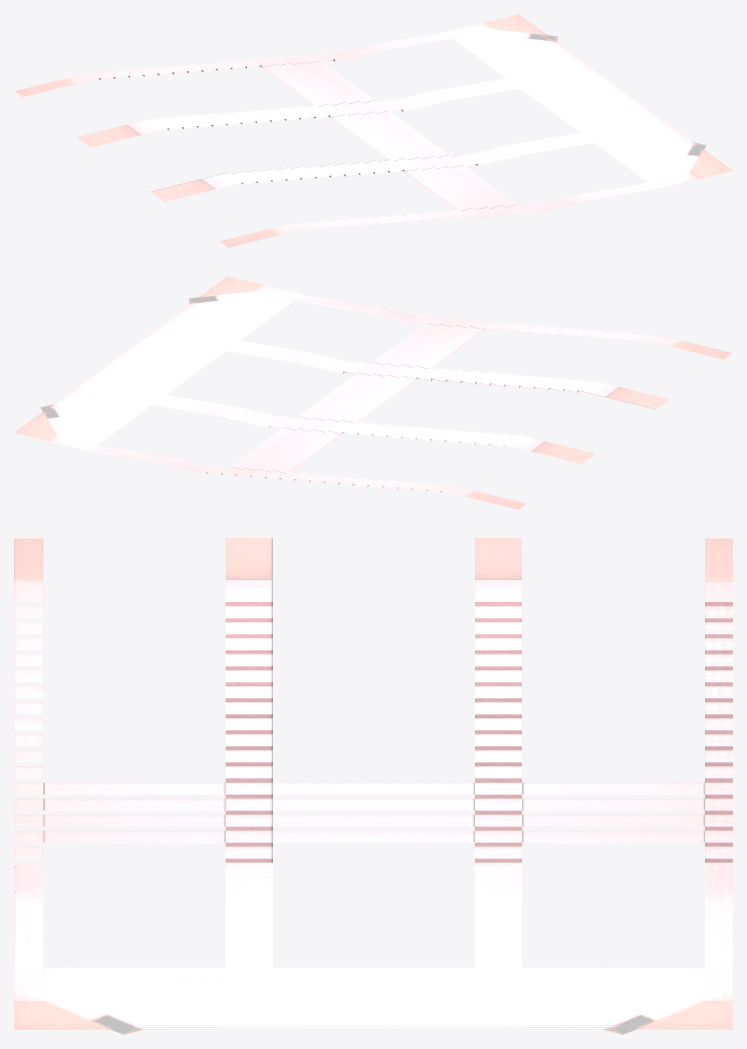
3 renders of one model, top to bottom at view 1: azimuth 30°, elevation 25°; view 2: azimuth 150°, elevation 25°; view 3: azimuth 270°, elevation 25°, orthographic. The views are drawn at different scales.
Visible parts, largest first — view 1: 室内-一楼地毯; view 2: 室内-一楼地毯; view 3: 室内-一楼地毯.
Boxes of the visible parts, x1,y1,x2,y2 form: 室内-一楼地毯: [14, 14, 732, 247]; 室内-一楼地毯: [14, 276, 732, 509]; 室内-一楼地毯: [14, 538, 732, 1034].
Bounding box in the file's own units: 31.46 × 2.72 × 22.8.
